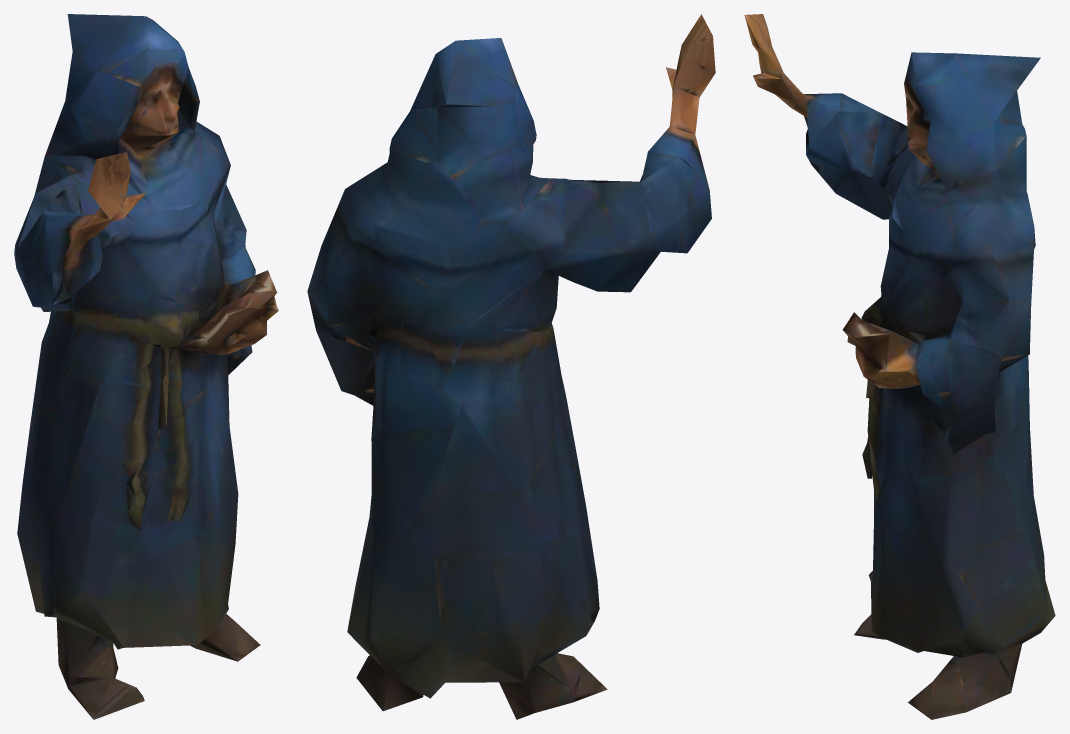
The picture shows the model from 3 angles, left to right: view 1: azimuth 30°, elevation 25°; view 2: azimuth 150°, elevation 25°; view 3: azimuth 270°, elevation 25°; orthographic projection. The views are drawn at different scales.
Visible parts, largest first — view 1: Monk; view 2: Monk; view 3: Monk.
Part boxes in pixels (bbox=[...]): Monk: bbox=[14, 14, 278, 719]; Monk: bbox=[307, 14, 715, 719]; Monk: bbox=[744, 14, 1055, 719].
Bounding box in the file's own units: 0.9431 × 1.98 × 0.9021.
1 material, 1 textured.
